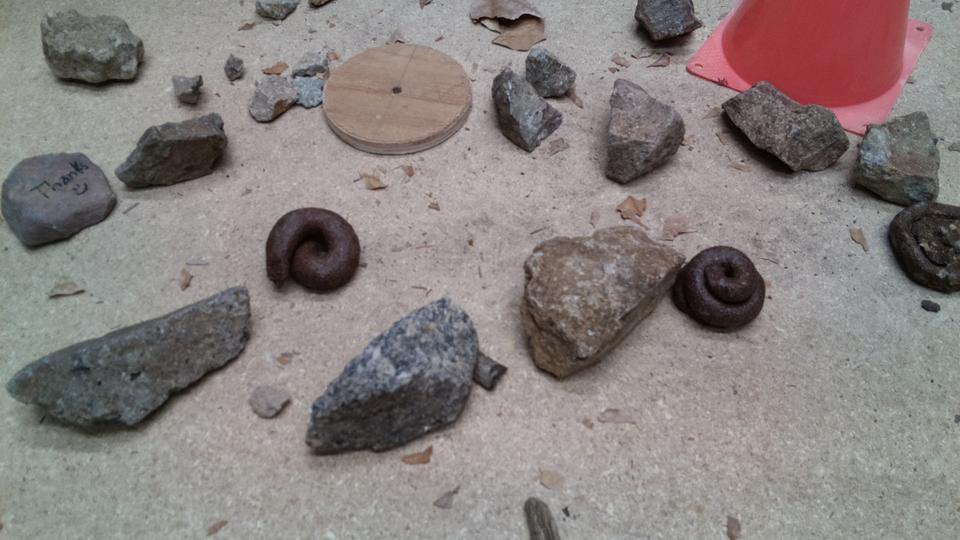poop: (265, 206, 363, 296), (672, 244, 767, 331), (886, 200, 960, 297)
